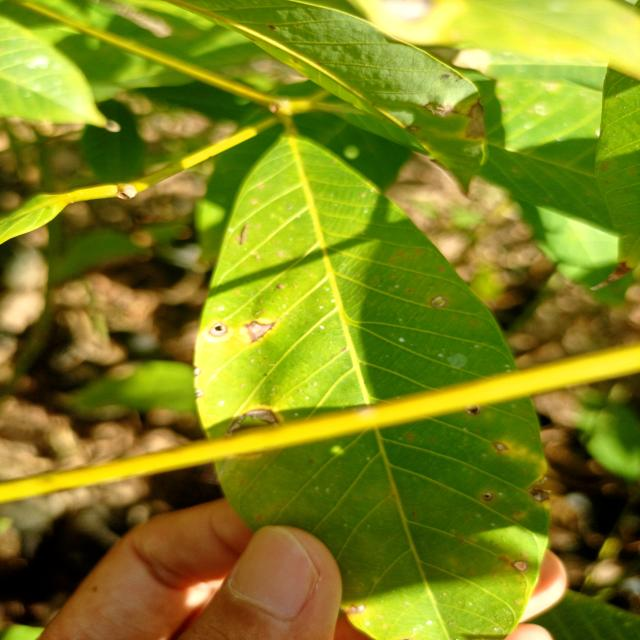Colletotrichum: (208, 322, 229, 338), (430, 295, 447, 310), (511, 559, 527, 572), (481, 492, 494, 502)
